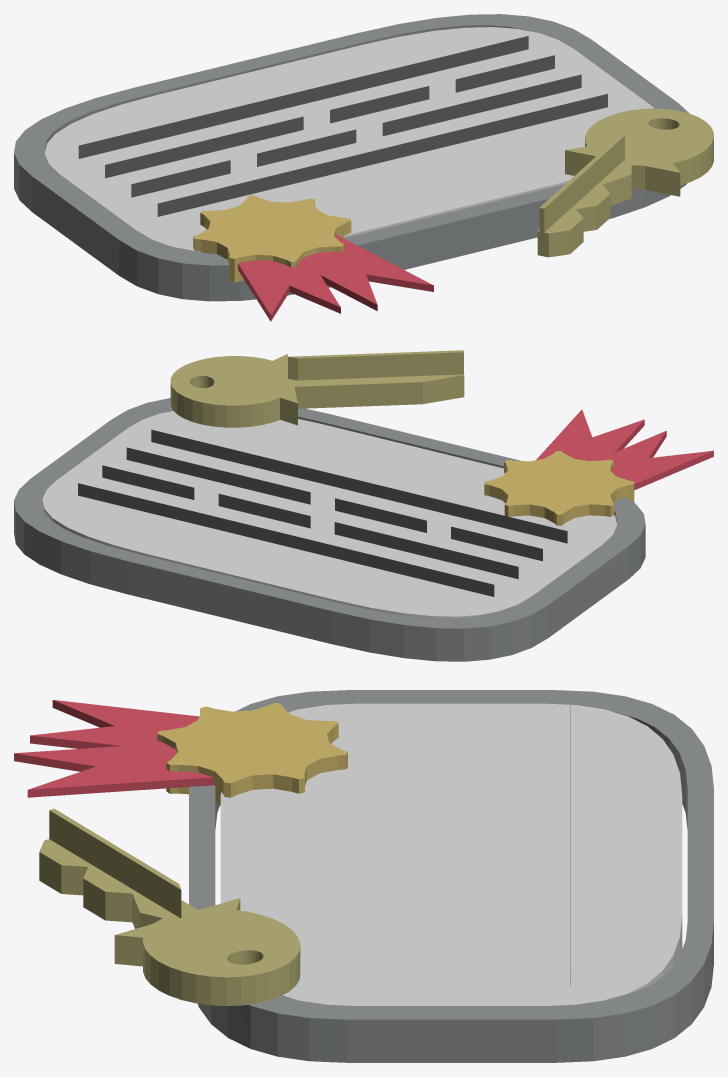
The model's file is model_certificado.glb.
3 renders of one model, top to bottom at view 1: azimuth 30°, elevation 25°; view 2: azimuth 150°, elevation 25°; view 3: azimuth 270°, elevation 25°, orthographic. The views are drawn at different scales.
Parts seen in each view (by area): view 1: Mesh_Mesh_head_geo.001_lambert2SG.001; view 2: Mesh_Mesh_head_geo.001_lambert2SG.001; view 3: Mesh_Mesh_head_geo.001_lambert2SG.001.
Boxes of the visible parts, left/top/right/bottom form: Mesh_Mesh_head_geo.001_lambert2SG.001: left=14, top=14, right=713, bottom=321; Mesh_Mesh_head_geo.001_lambert2SG.001: left=14, top=350, right=713, bottom=661; Mesh_Mesh_head_geo.001_lambert2SG.001: left=14, top=690, right=713, bottom=1062.
Size of the model in its own units: 0.049 by 0.00733 by 0.044.
